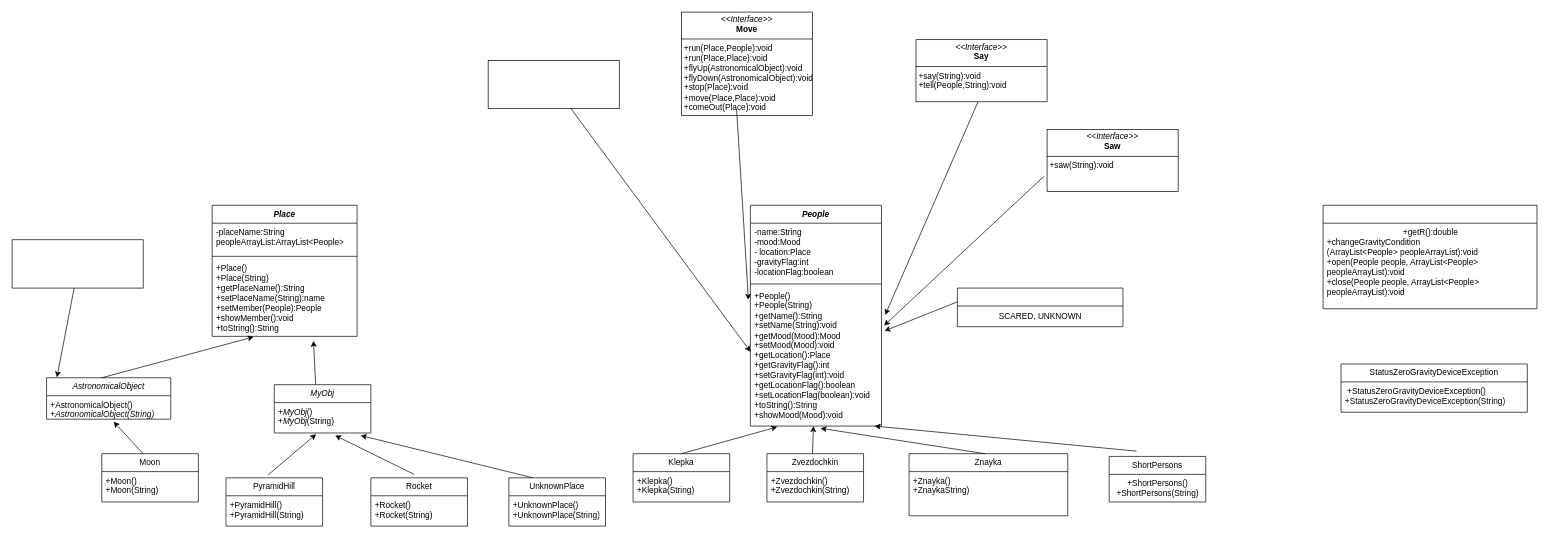
Some shapes in this 1549 by 540 pixel diagram are drawn without their labels. Each missing label, with the box of its shape:
<<Interface>> Condition +gravityCondition(People):void: (487, 60, 619, 109)
<<Interface>> ShowMyObj +showMyObj(MyObj):void: (11, 239, 143, 288)
MOOD: (957, 287, 1123, 327)
ZeroGravityDevice: (1322, 205, 1537, 309)
